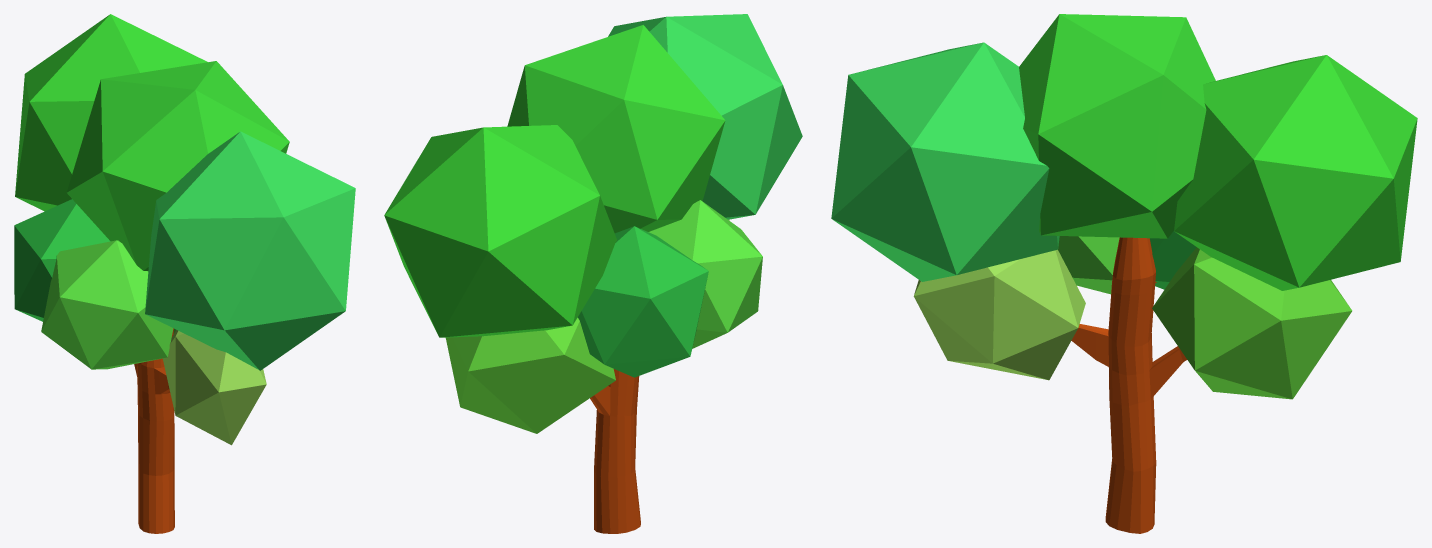
The model's file is tree.fbx.
3 renders of one model, left to right at view 1: azimuth 30°, elevation 25°; view 2: azimuth 150°, elevation 25°; view 3: azimuth 270°, elevation 25°, orthographic. The views are drawn at different scales.
Parts seen in each view (by area): view 1: Icosphere.063, Icosphere.068, Icosphere.070, Icosphere.064, Icosphere.067, Cylinder.010, Icosphere.069; view 2: Icosphere.070, Icosphere.068, Icosphere.063, Icosphere.069, Icosphere.065, Icosphere.064, Cylinder.010; view 3: Icosphere.070, Icosphere.063, Icosphere.068, Icosphere.065, Icosphere.067, Cylinder.010, Icosphere.064, Icosphere.069.
Part boxes in pixels (box(x1,y1,x2,y2)): Icosphere.063: box(145, 131, 355, 370); Icosphere.068: box(66, 61, 289, 270); Icosphere.070: box(15, 14, 207, 211); Icosphere.064: box(41, 240, 173, 369); Icosphere.067: box(162, 330, 266, 445); Cylinder.010: box(134, 328, 174, 533); Icosphere.069: box(14, 199, 110, 321); Icosphere.070: box(384, 125, 616, 337); Icosphere.068: box(507, 25, 725, 233); Icosphere.063: box(608, 14, 802, 219); Icosphere.069: box(577, 226, 708, 377); Icosphere.065: box(445, 317, 615, 433); Icosphere.064: box(648, 200, 762, 348); Cylinder.010: box(590, 369, 640, 533); Icosphere.070: box(1174, 55, 1417, 290); Icosphere.063: box(831, 42, 1059, 281); Icosphere.068: box(1019, 14, 1215, 238); Icosphere.065: box(1152, 247, 1352, 399); Icosphere.067: box(913, 249, 1085, 380); Cylinder.010: box(1071, 237, 1187, 533); Icosphere.064: box(1058, 236, 1119, 294); Icosphere.069: box(1150, 231, 1196, 289).
Size of the model in its own units: 1582 by 2795 by 2889.
